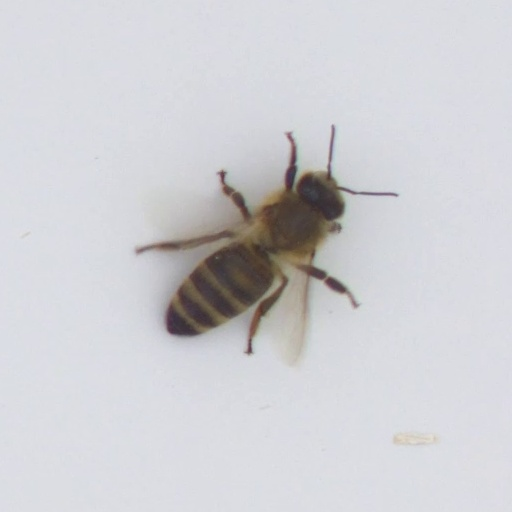Bee: (136, 157, 369, 353)
Thorax: (254, 188, 334, 258)
